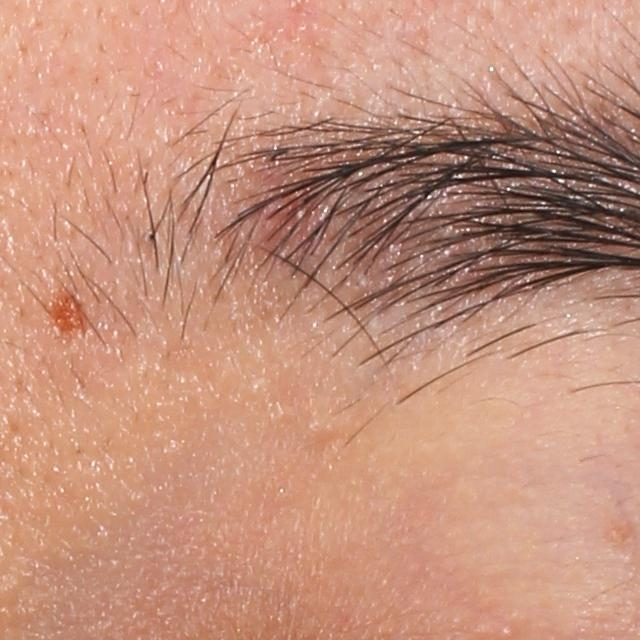nevus: (51, 290, 99, 337)
